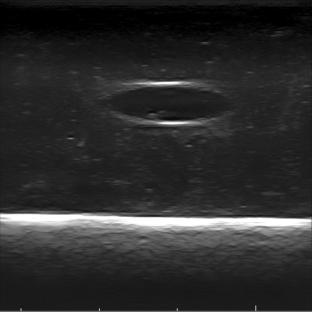vessel: (110, 81, 233, 126)
